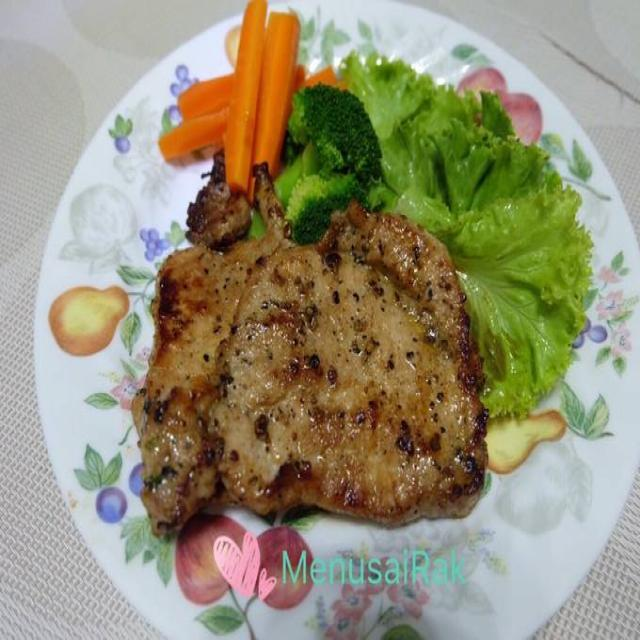cac loai rau cu: (469, 67, 610, 424), (346, 30, 489, 222), (171, 0, 299, 184), (293, 45, 376, 224)
thit heo: (122, 167, 502, 551)
thit lon bistek: (105, 0, 596, 532)
